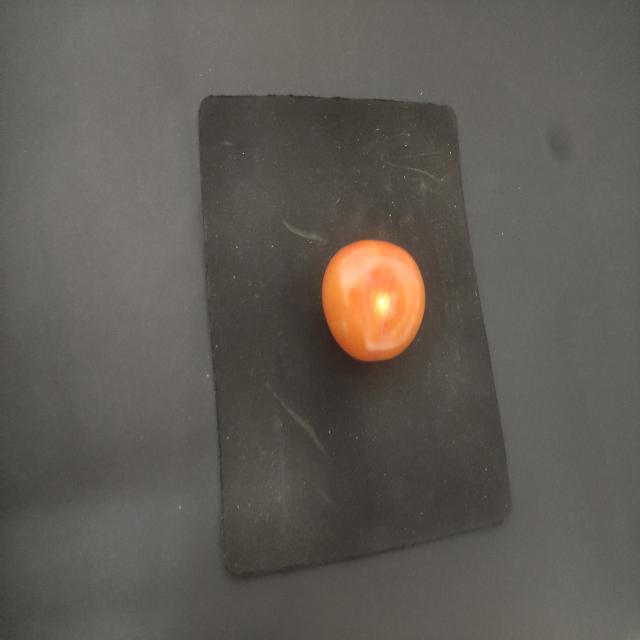sari: (318, 219, 436, 365)
